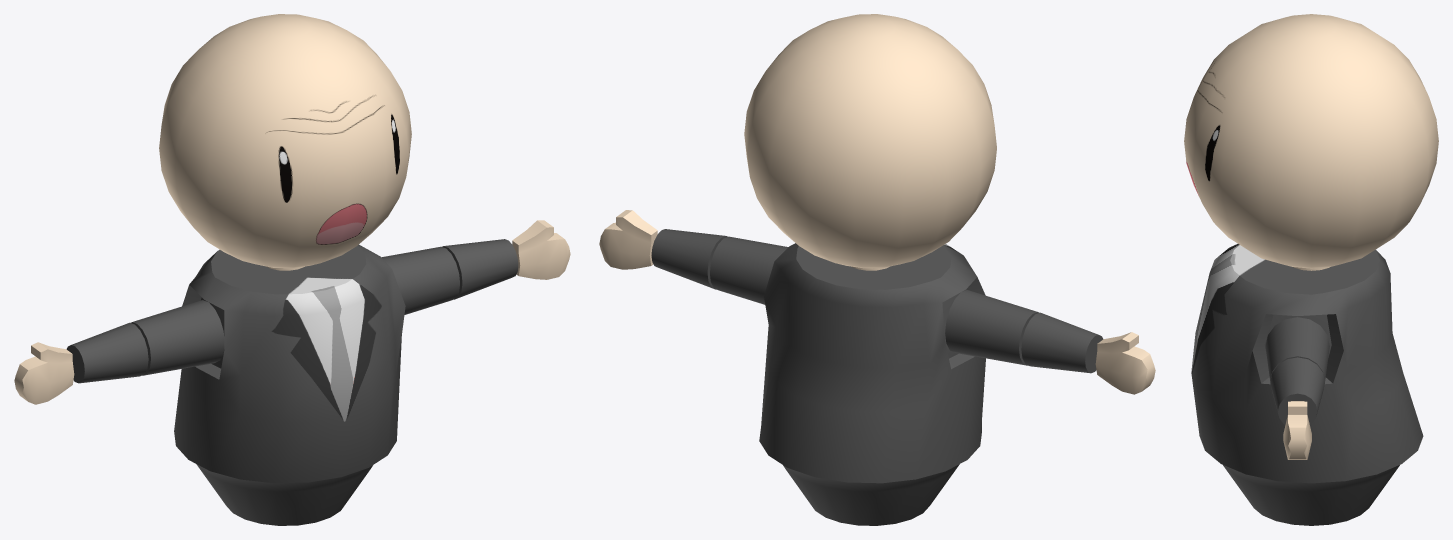
The model's file is MP_model_newGrey.fbx.
3 views of the same model, side by side, from view 1: azimuth 30°, elevation 25°; view 2: azimuth 150°, elevation 25°; view 3: azimuth 270°, elevation 25° (orthographic).
Parts seen in each view (by area): view 1: MP_Head_object, MP_Body_object, MP_RighttUpperArm_object, MP_RightLowerrArm_object, MP_LeftUpperArm_object, MP_LeftLowerArm_object, MP_RightHand_object, MP_LeftHand_object; view 2: MP_Head_object, MP_Body_object, MP_RighttUpperArm_object, MP_RightLowerrArm_object, MP_LeftUpperArm_object, MP_LeftLowerArm_object, MP_RightHand_object, MP_LeftHand_object; view 3: MP_Head_object, MP_Body_object, MP_LeftUpperArm_object, MP_LeftLowerArm_object, MP_LeftHand_object.
Part boxes in pixels (x1,y1,x2,y2): MP_Head_object: [159, 14, 411, 270]; MP_Body_object: [174, 244, 405, 525]; MP_RighttUpperArm_object: [130, 300, 224, 375]; MP_RightLowerrArm_object: [66, 322, 148, 383]; MP_LeftUpperArm_object: [382, 246, 459, 314]; MP_LeftLowerArm_object: [442, 239, 518, 299]; MP_RightHand_object: [14, 342, 74, 404]; MP_LeftHand_object: [512, 220, 570, 279]; MP_Head_object: [744, 14, 996, 270]; MP_Body_object: [759, 243, 985, 525]; MP_RighttUpperArm_object: [945, 290, 1039, 365]; MP_RightLowerrArm_object: [1021, 312, 1103, 373]; MP_LeftUpperArm_object: [710, 236, 788, 304]; MP_LeftLowerArm_object: [651, 229, 727, 289]; MP_RightHand_object: [1095, 332, 1155, 394]; MP_LeftHand_object: [599, 210, 657, 269]; MP_Head_object: [1184, 14, 1438, 270]; MP_Body_object: [1191, 244, 1423, 525]; MP_LeftUpperArm_object: [1265, 317, 1329, 380]; MP_LeftLowerArm_object: [1270, 357, 1324, 424]; MP_LeftHand_object: [1283, 401, 1311, 459].
Bounding box in the file's own units: 11.48 × 9.52 × 4.64.
2 materials, 2 textured.
